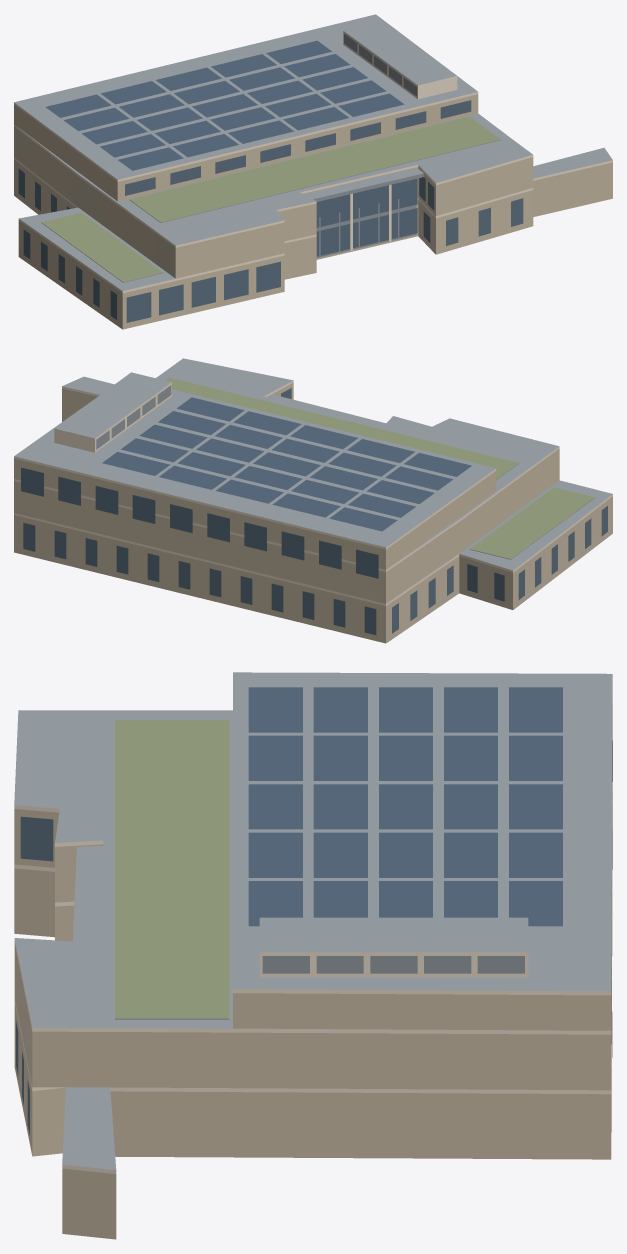
Rendered from dc-au-meltzer-center.glb.
3 views of the same model, one above another, from view 1: azimuth 30°, elevation 25°; view 2: azimuth 150°, elevation 25°; view 3: azimuth 270°, elevation 25° (orthographic). The views are drawn at different scales.
Parts seen in each view (by area): view 1: Alan and Amy Meltzer Center for Athletic Performance; view 2: Alan and Amy Meltzer Center for Athletic Performance; view 3: Alan and Amy Meltzer Center for Athletic Performance.
Boxes of the visible parts, <box> form: Alan and Amy Meltzer Center for Athletic Performance: <box>14,14,612,329</box>; Alan and Amy Meltzer Center for Athletic Performance: <box>14,358,612,643</box>; Alan and Amy Meltzer Center for Athletic Performance: <box>14,672,612,1239</box>.
Size of the model in its own units: 88.36 by 17.7 by 49.74.
